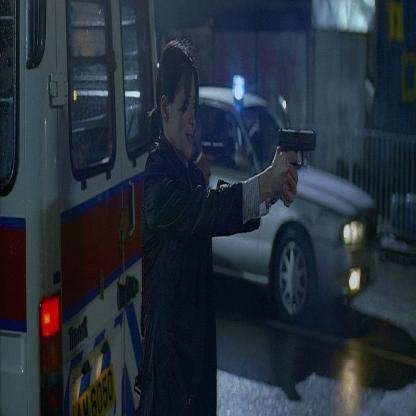gun: (276, 105, 321, 179)
